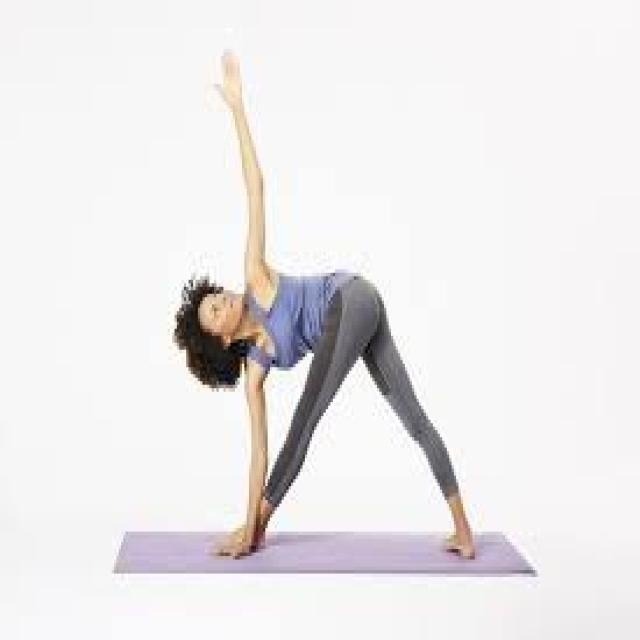Triangle_Pose: (153, 43, 488, 567)
